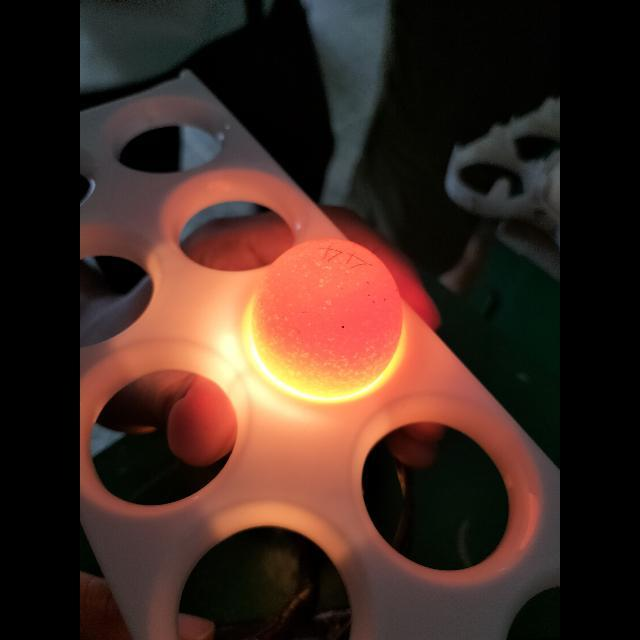Infertile: (258, 242, 408, 396)
